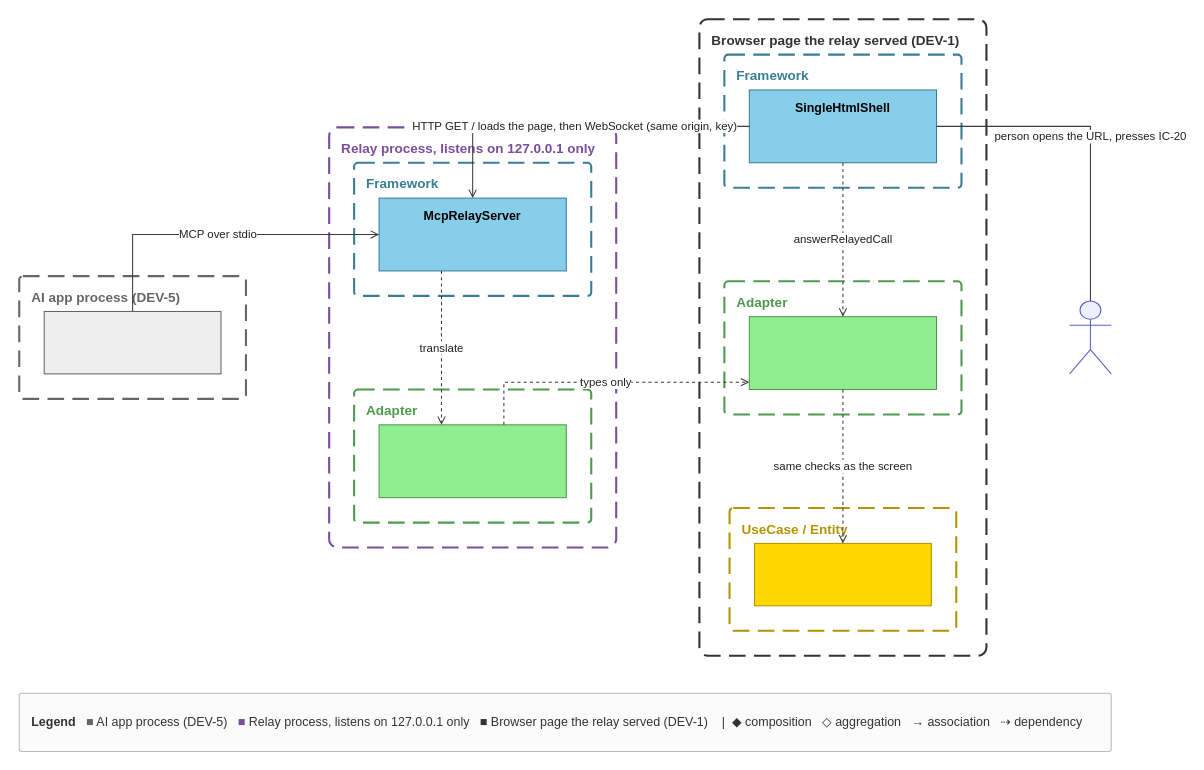
Some shapes in this 1204 by 770 pixel diagram are drawn without their labels. The shapes that lost their labels are listed below. From the top down, each one's centre as x and y in pixels, then its label:
point (132, 342): McpClient
point (842, 352): AgentApiEndpoint
point (1090, 337): Person
point (472, 461): McpToolTranslator
point (842, 574): UseCase and Entity
